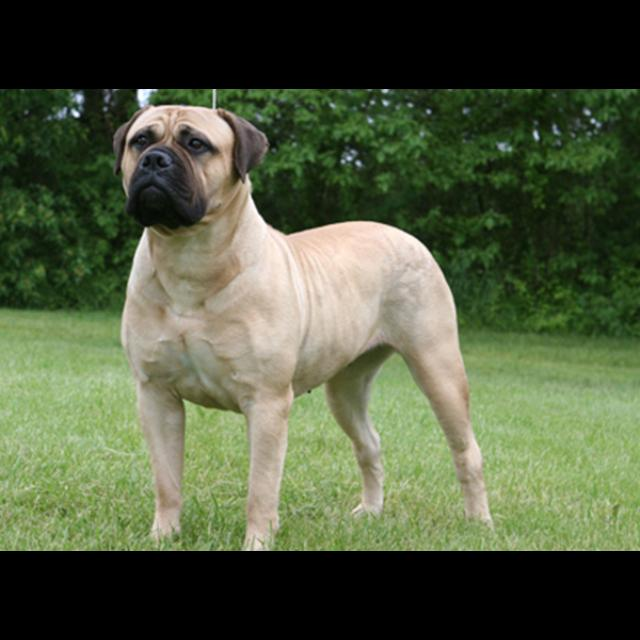mastiff: (112, 103, 496, 552)
